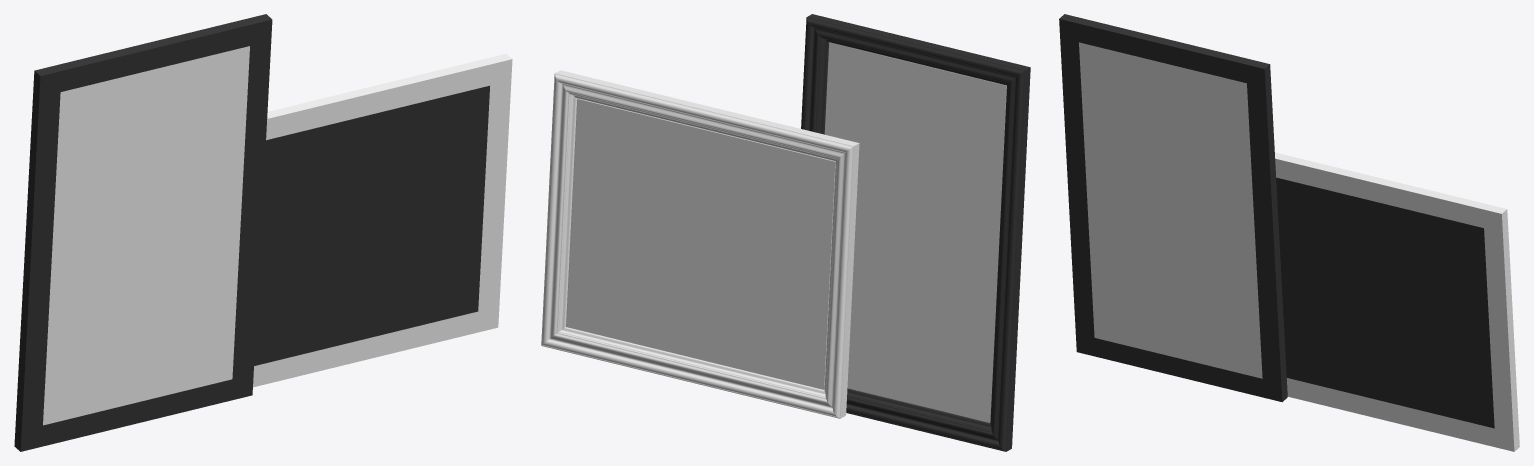
The model's file is Pictures.fbx.
The picture shows the model from 3 angles, left to right: view 1: azimuth 30°, elevation 25°; view 2: azimuth 150°, elevation 25°; view 3: azimuth 330°, elevation 25°; orthographic projection. The views are drawn at different scales.
Parts seen in each view (by area): view 1: Pictures; view 2: Pictures; view 3: Pictures.
Boxes of the visible parts, x1,y1,x2,y2 form: Pictures: [14, 14, 512, 451]; Pictures: [541, 14, 1030, 451]; Pictures: [1059, 14, 1519, 451].
Bounding box in the file's own units: 68.06 × 52.41 × 8.61.
